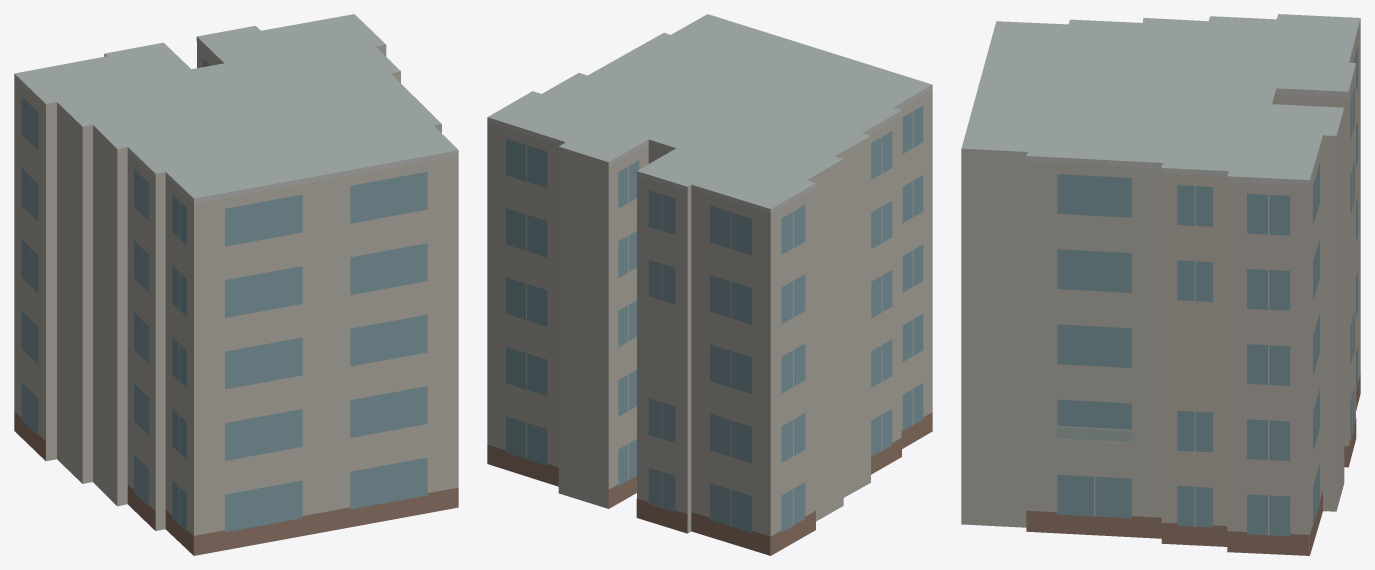
Rendered from survey-upis-33033810.glb.
The picture shows the model from 3 angles, left to right: view 1: azimuth 30°, elevation 25°; view 2: azimuth 150°, elevation 25°; view 3: azimuth 270°, elevation 25°; orthographic projection. The views are drawn at different scales.
Visible parts, largest first — view 1: survey-upis-33033810.tmp; view 2: survey-upis-33033810.tmp; view 3: survey-upis-33033810.tmp.
Part boxes in pixels (left/top/right/bottom): survey-upis-33033810.tmp: left=14, top=14, right=458, bottom=555; survey-upis-33033810.tmp: left=487, top=14, right=932, bottom=555; survey-upis-33033810.tmp: left=961, top=14, right=1360, bottom=555.
Bounding box in the file's own units: 16.31 × 17.2 × 16.57.
